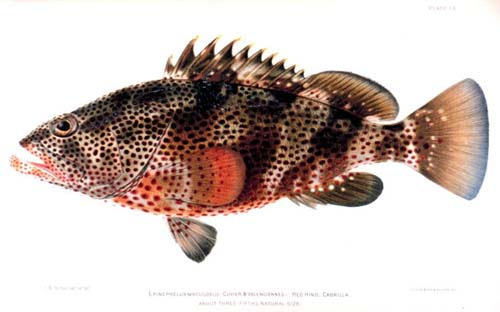fish: (9, 34, 489, 264)
